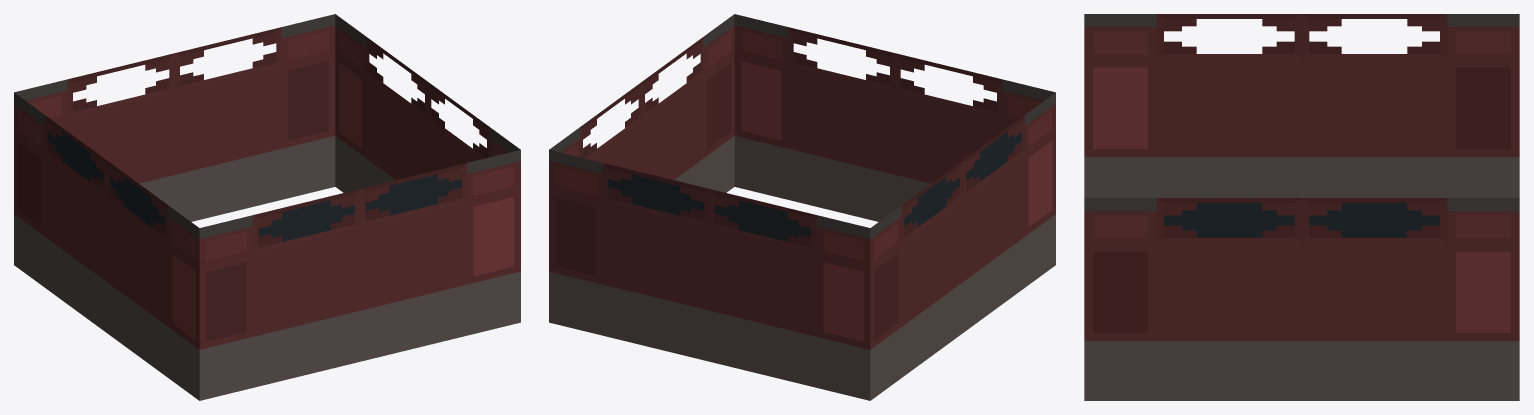
Rendered from StackA-Sm_DLOD1.fbx.
3 renders of one model, left to right at view 1: azimuth 30°, elevation 25°; view 2: azimuth 150°, elevation 25°; view 3: azimuth 270°, elevation 25°, orthographic. The views are drawn at different scales.
Parts seen in each view (by area): view 1: StackA-Sm_DLOD1; view 2: StackA-Sm_DLOD1; view 3: StackA-Sm_DLOD1.
Boxes of the visible parts, <box> form: StackA-Sm_DLOD1: <box>14,14,520,400</box>; StackA-Sm_DLOD1: <box>549,14,1055,400</box>; StackA-Sm_DLOD1: <box>1084,14,1519,400</box>.
Bounding box in the file's own units: 750 × 386 × 750.
